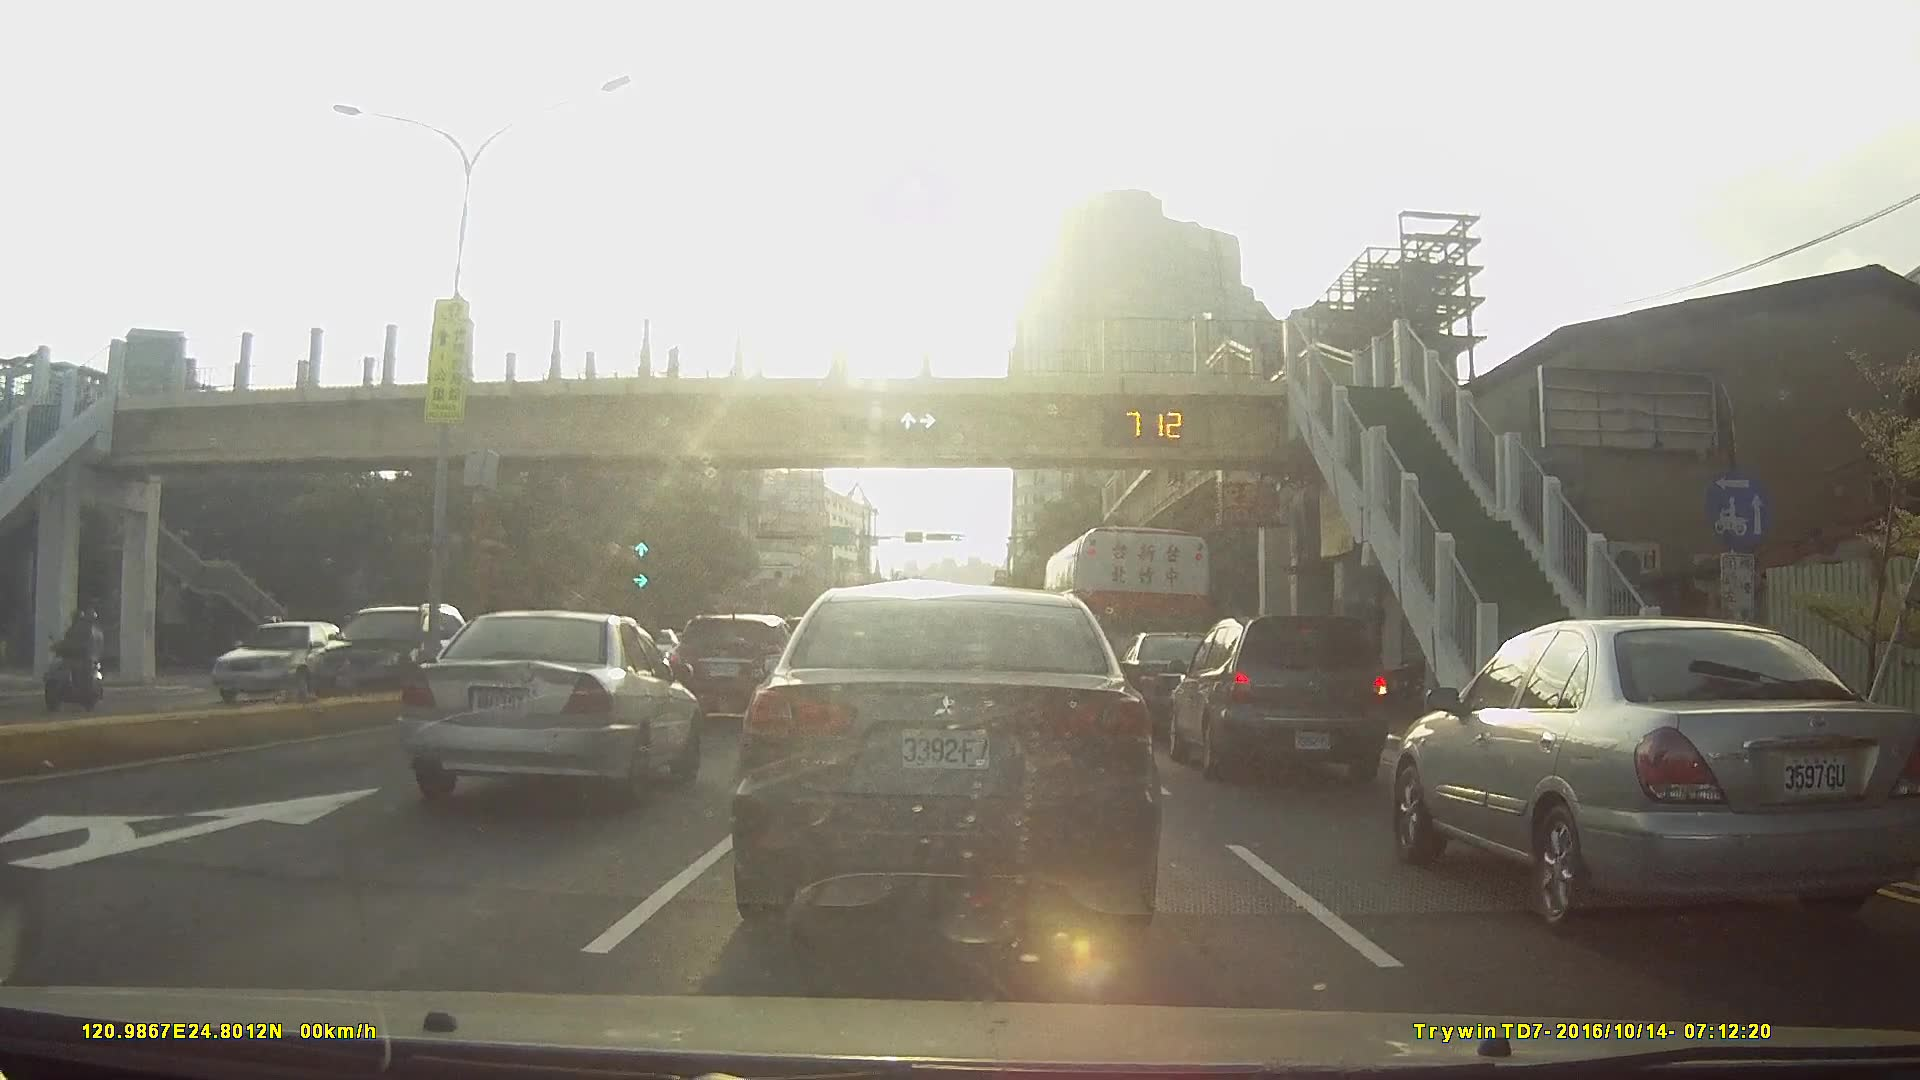rider: (40, 609, 106, 709)
vehicle: (1398, 613, 1920, 937), (727, 573, 1166, 954), (402, 604, 704, 794), (1170, 609, 1407, 783), (301, 595, 500, 716), (190, 619, 363, 708), (667, 607, 802, 719), (1117, 629, 1250, 732)
